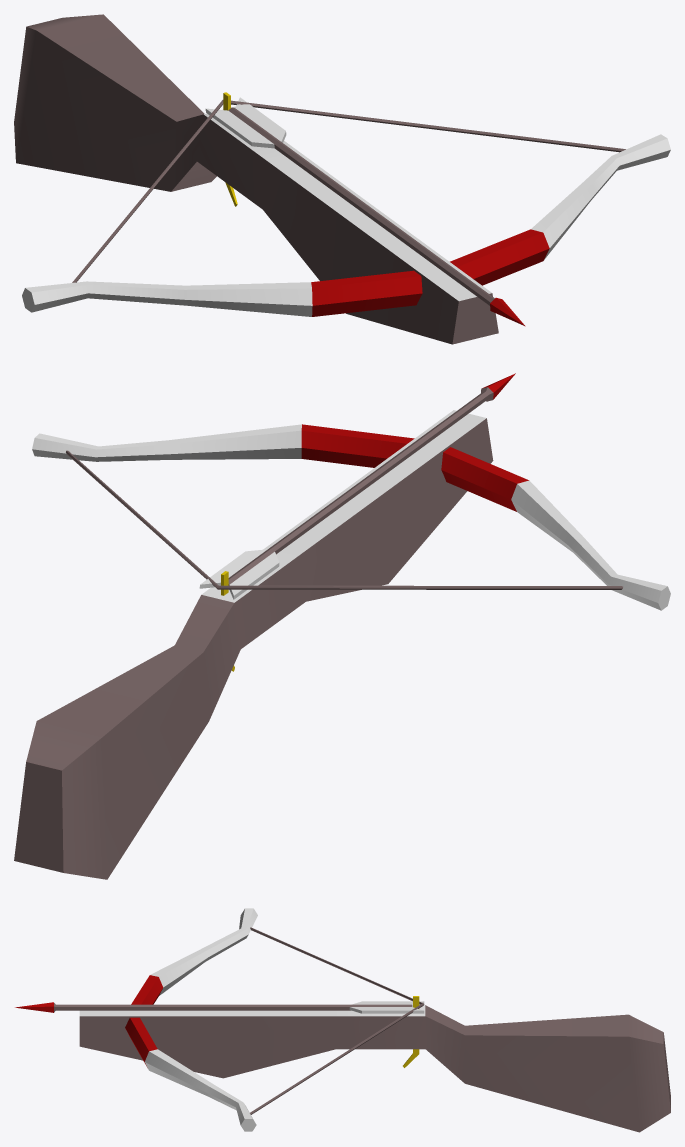
The picture shows the model from 3 angles, top to bottom: view 1: azimuth 30°, elevation 25°; view 2: azimuth 150°, elevation 25°; view 3: azimuth 270°, elevation 25°; orthographic projection. The views are drawn at different scales.
Visible parts, largest first — view 1: no2; view 2: no2; view 3: no2.
Boxes of the visible parts, bbox=[...] form: no2: bbox=[14, 14, 670, 344]; no2: bbox=[14, 373, 670, 879]; no2: bbox=[15, 908, 670, 1132].
Size of the model in its own units: 5.52 by 1.48 by 7.29.
